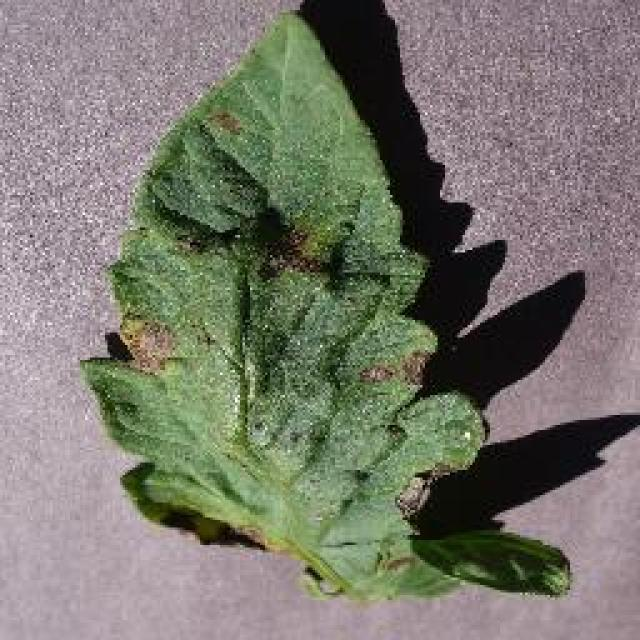Tomato___Early_blight: (70, 13, 577, 606)
